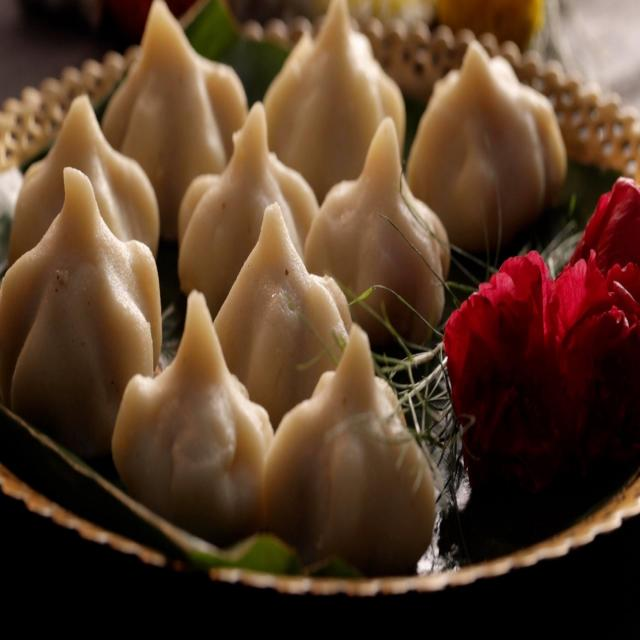modak: (253, 302, 418, 554), (396, 32, 572, 268), (107, 302, 276, 540), (306, 108, 460, 348), (0, 210, 153, 449), (207, 174, 353, 414), (157, 75, 317, 286), (9, 91, 161, 271), (264, 0, 404, 195), (98, 16, 241, 192)
